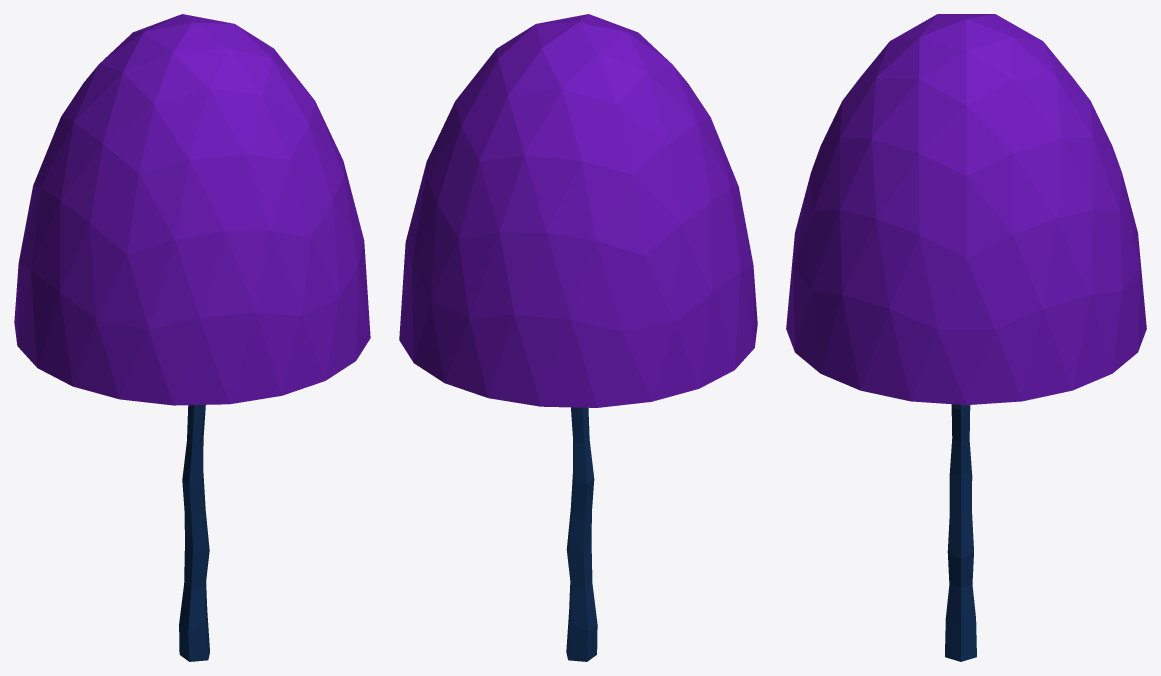
File: cogumelo8.FBX
3 views of the same model, side by side, from view 1: azimuth 30°, elevation 25°; view 2: azimuth 150°, elevation 25°; view 3: azimuth 270°, elevation 25° (orthographic).
Visible parts, largest first — view 1: GeoSphere001, Cone001; view 2: GeoSphere001, Cone001; view 3: GeoSphere001, Cone001.
Boxes of the visible parts, box(x1,y1,x2,y2) form: GeoSphere001: box(14, 14, 370, 405); Cone001: box(179, 405, 209, 661); GeoSphere001: box(399, 14, 757, 407); Cone001: box(566, 407, 597, 661); GeoSphere001: box(786, 14, 1146, 405); Cone001: box(945, 404, 976, 661).
Bounding box in the file's own units: 65.37 × 127 × 65.37.
